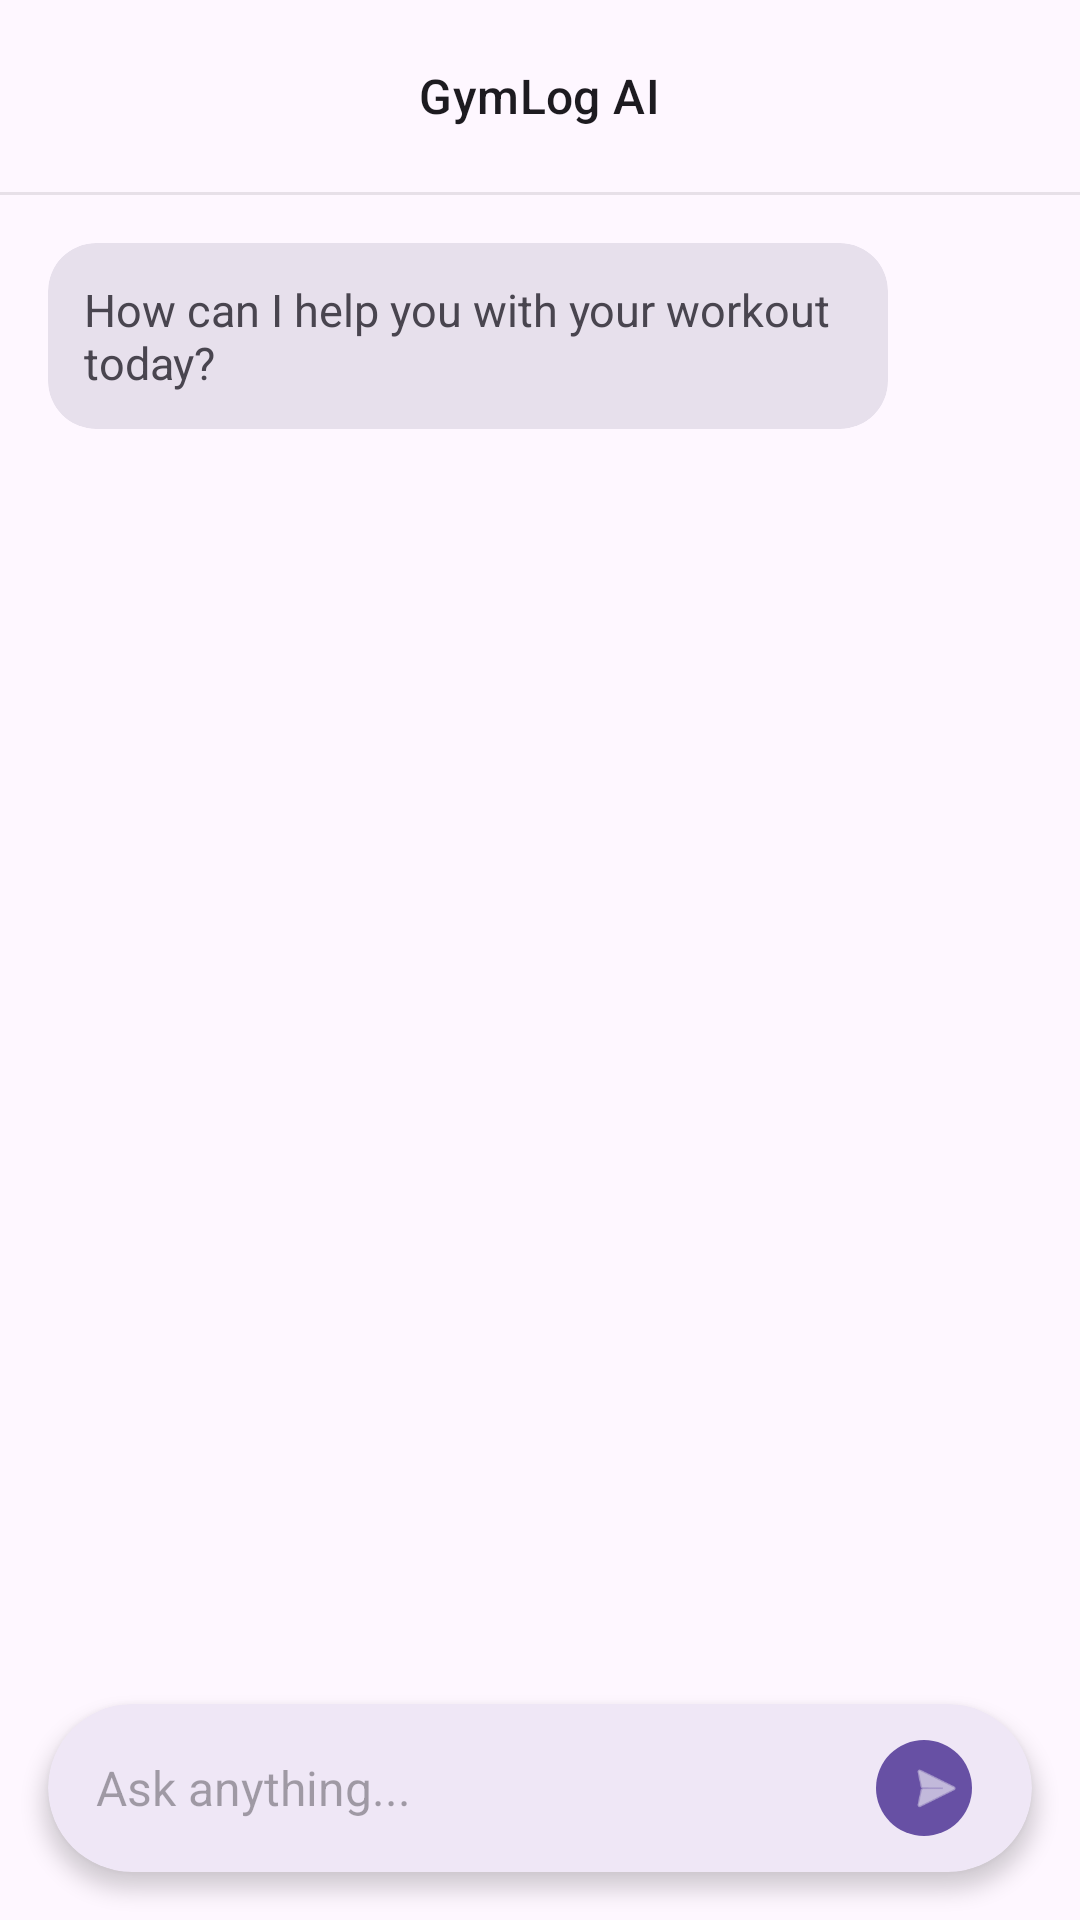

Locate icon controls on the screen. Image size 1080px×1920px, boxes as (x1, y1, x2, y2).
send: (876, 1740, 972, 1836)
